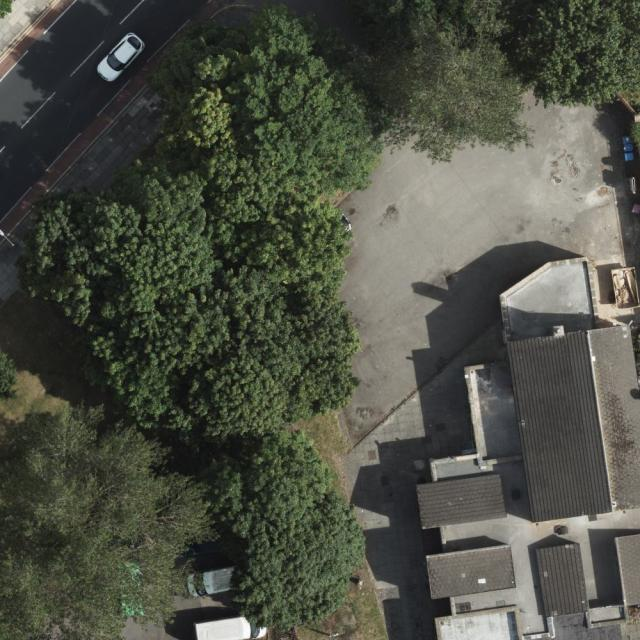roof: (414, 258, 640, 639)
